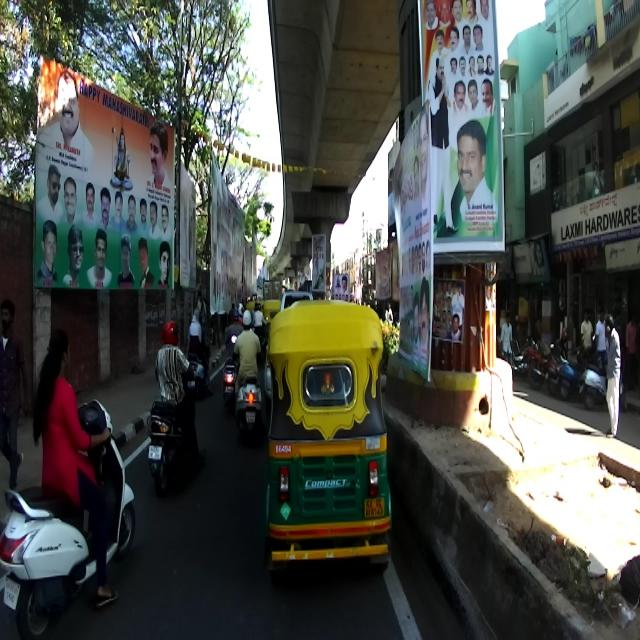autorickshaw: (266, 298, 394, 588)
scooter: (0, 397, 136, 638), (144, 370, 198, 495), (577, 344, 629, 412), (230, 334, 262, 444), (555, 337, 587, 401)
